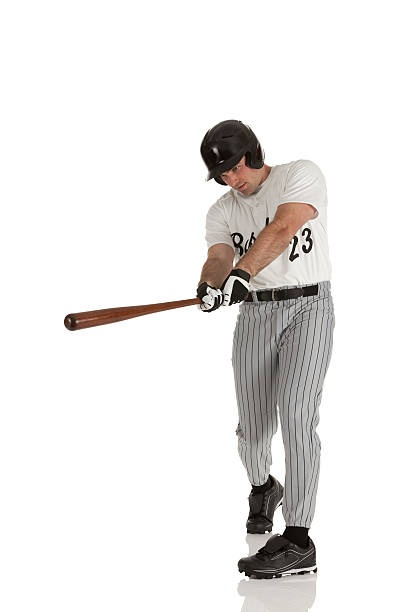bita: (61, 290, 210, 333)
